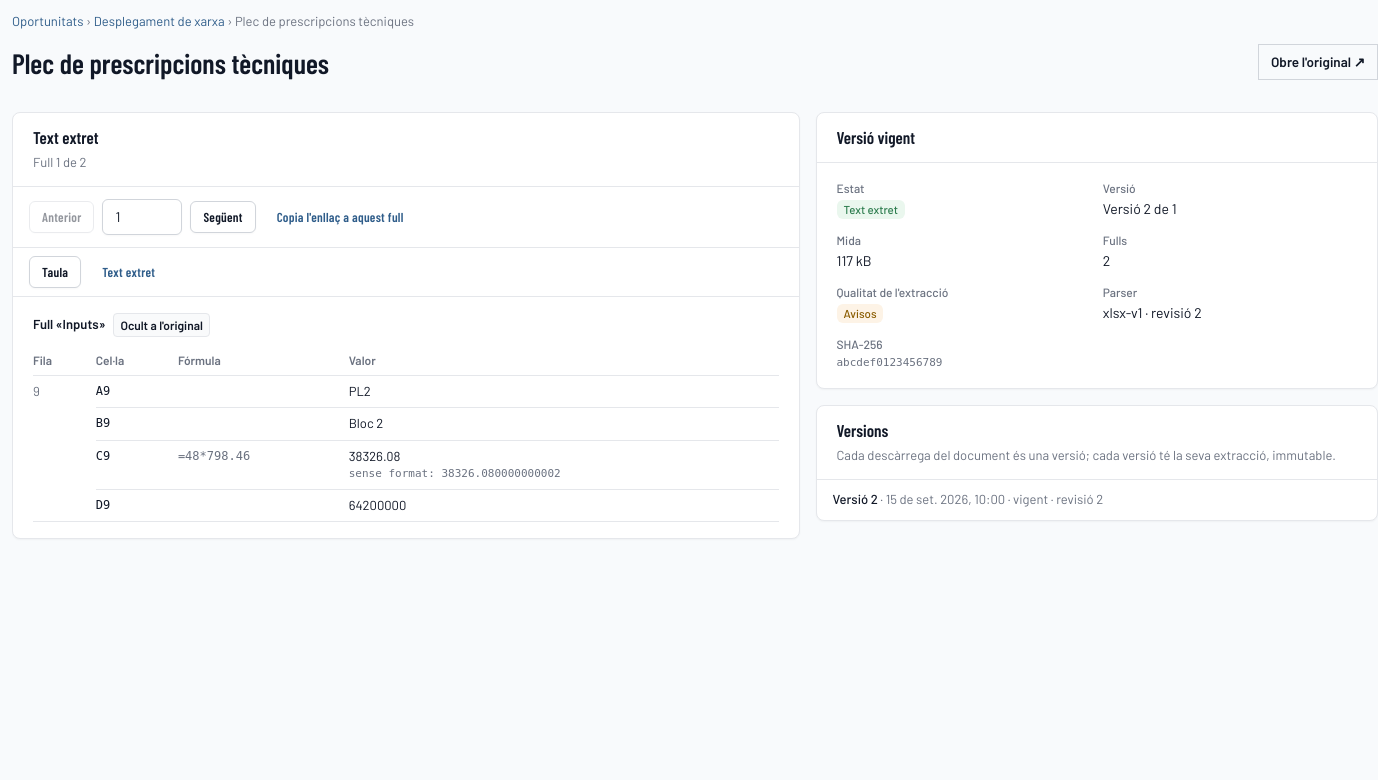
Text extret d'un plec › un full de càlcul: taula amb el valor net i el valor sense format, i el text original a un clic
Expected: the text "38326.08" is shown, [349,448,400,464]
Expected: the element showing "Full «Inputs» Ocult a l'original" is shown, [33,313,210,337]
Click the button "Text extret".
click(129, 272)  # box [89,256,168,288]
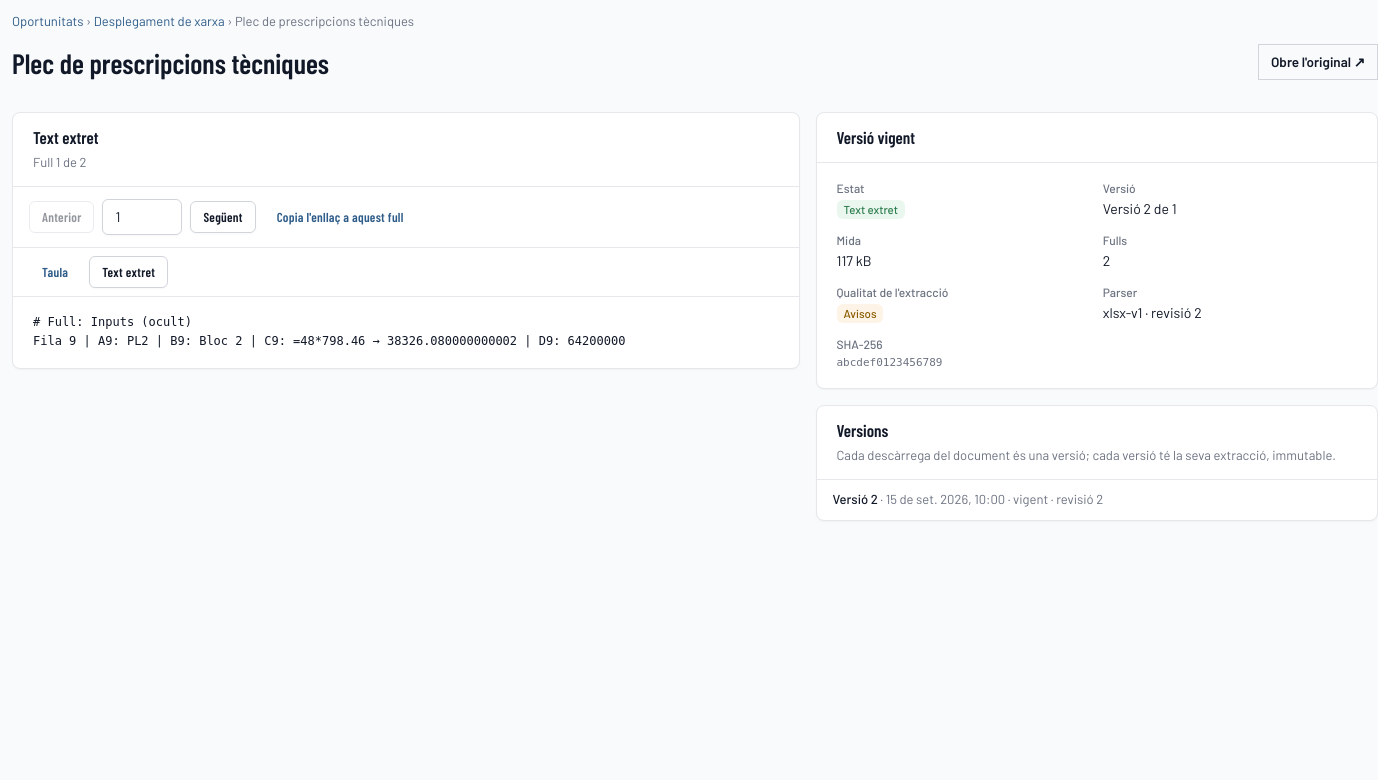
Now the text "C9: =48*798.46 → 38326.080000000002" is shown, box [33,315,625,348]
